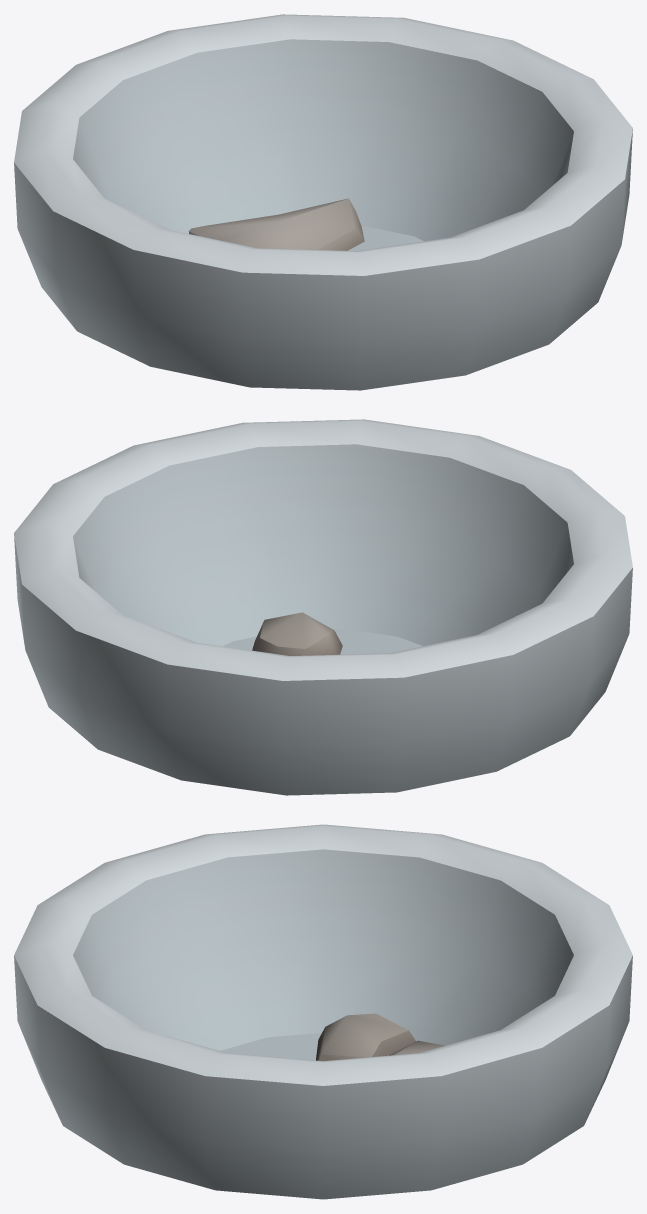
File: kay-bowl_dirty.glb
3 renders of one model, top to bottom at view 1: azimuth 30°, elevation 25°; view 2: azimuth 150°, elevation 25°; view 3: azimuth 270°, elevation 25°, orthographic.
Visible parts, largest first — view 1: bowl_dirty; view 2: bowl_dirty; view 3: bowl_dirty.
Part boxes in pixels (x1,y1,x2,y2): bowl_dirty: (14,14,632,390); bowl_dirty: (14,419,632,795); bowl_dirty: (14,824,632,1199).
Size of the model in its own units: 0.22 by 0.0695 by 0.22.
Materials: 1 (1 with a texture image).
